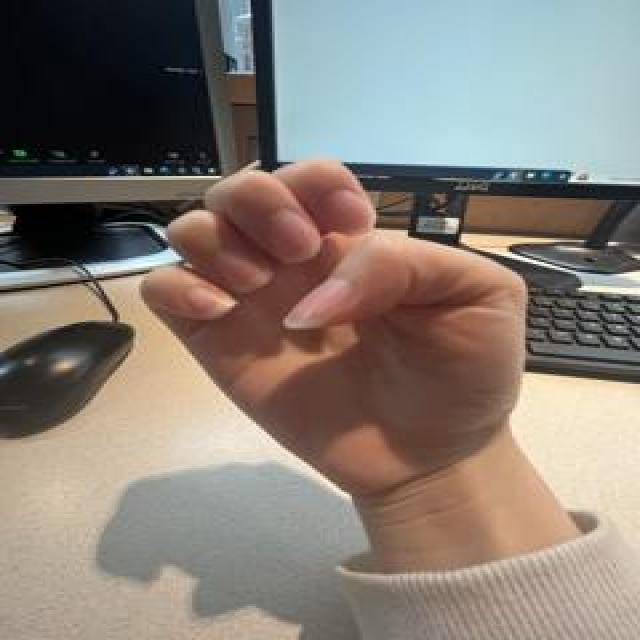E: (136, 153, 539, 503)
